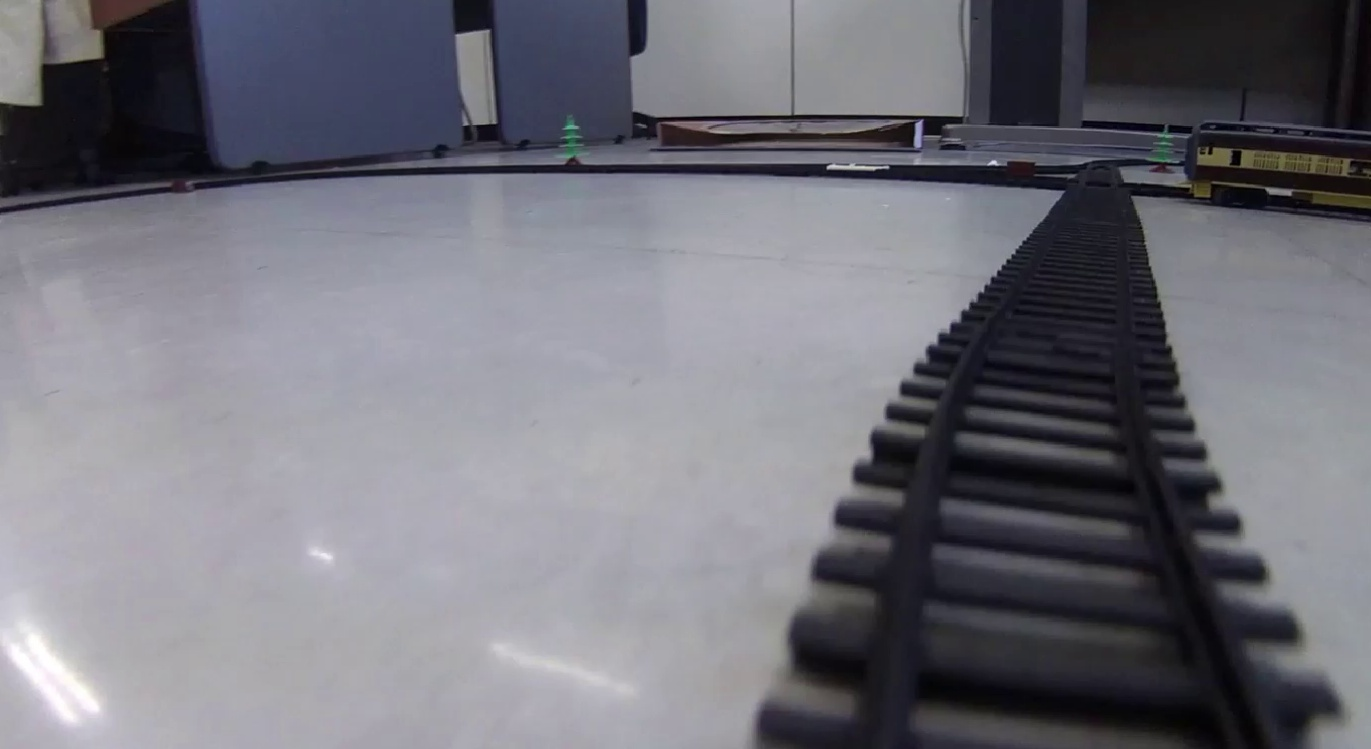tree: (553, 111, 592, 169)
